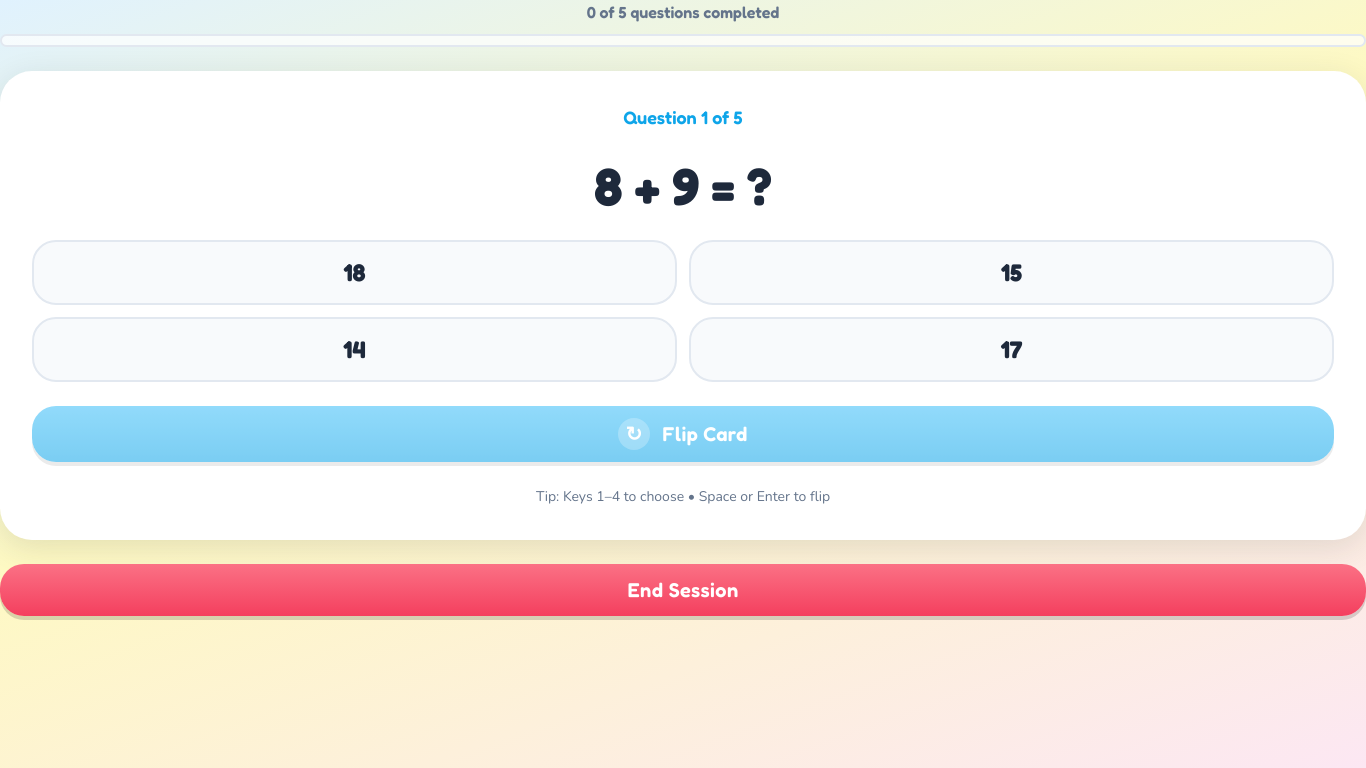
Test: PracticePage › shows end session confirmation dialog and allows canceling
This screenshot has width=1366, height=768.
Click the button "End Session" at [683, 590], box [0,564,1365,616]
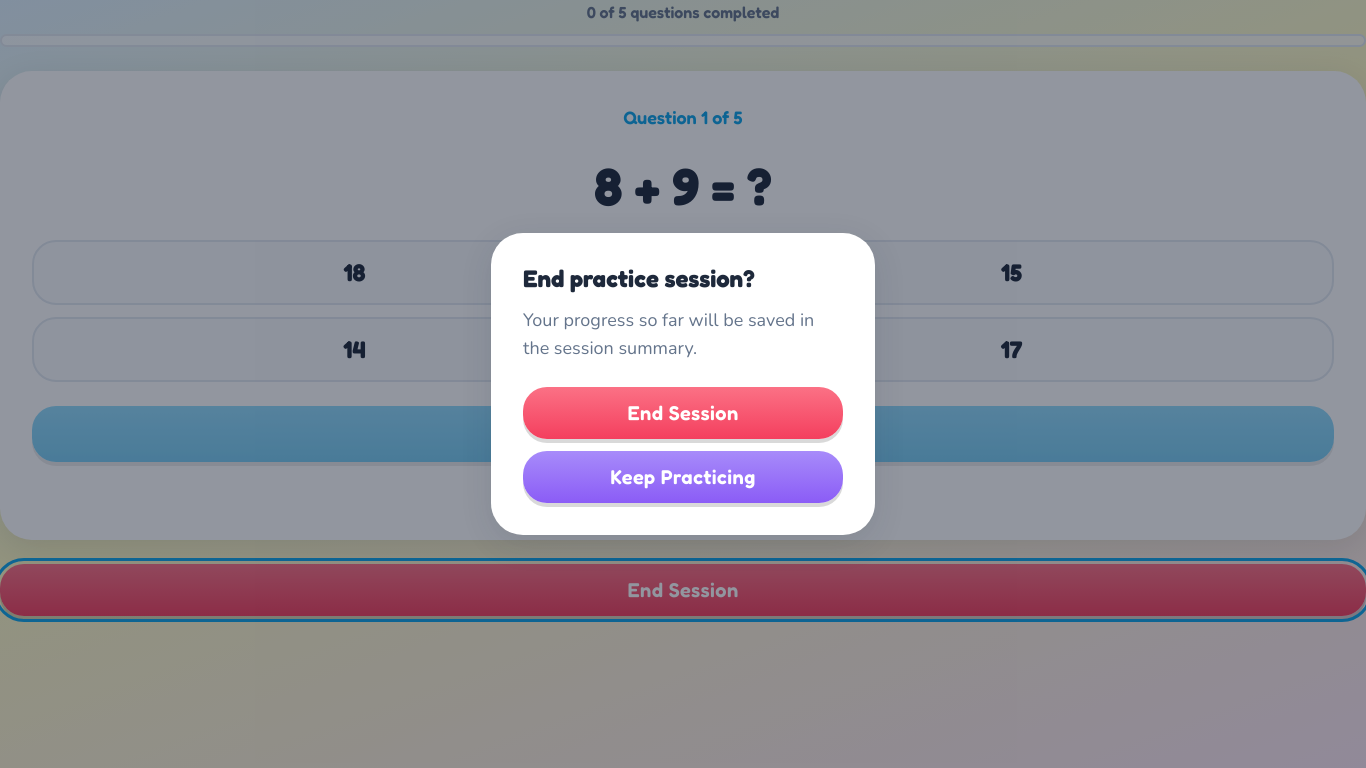
Now the heading "End practice session?" is shown, box [523,264,755,293]
Click the button "Keep Practicing" at [683, 477], box [523,451,843,503]
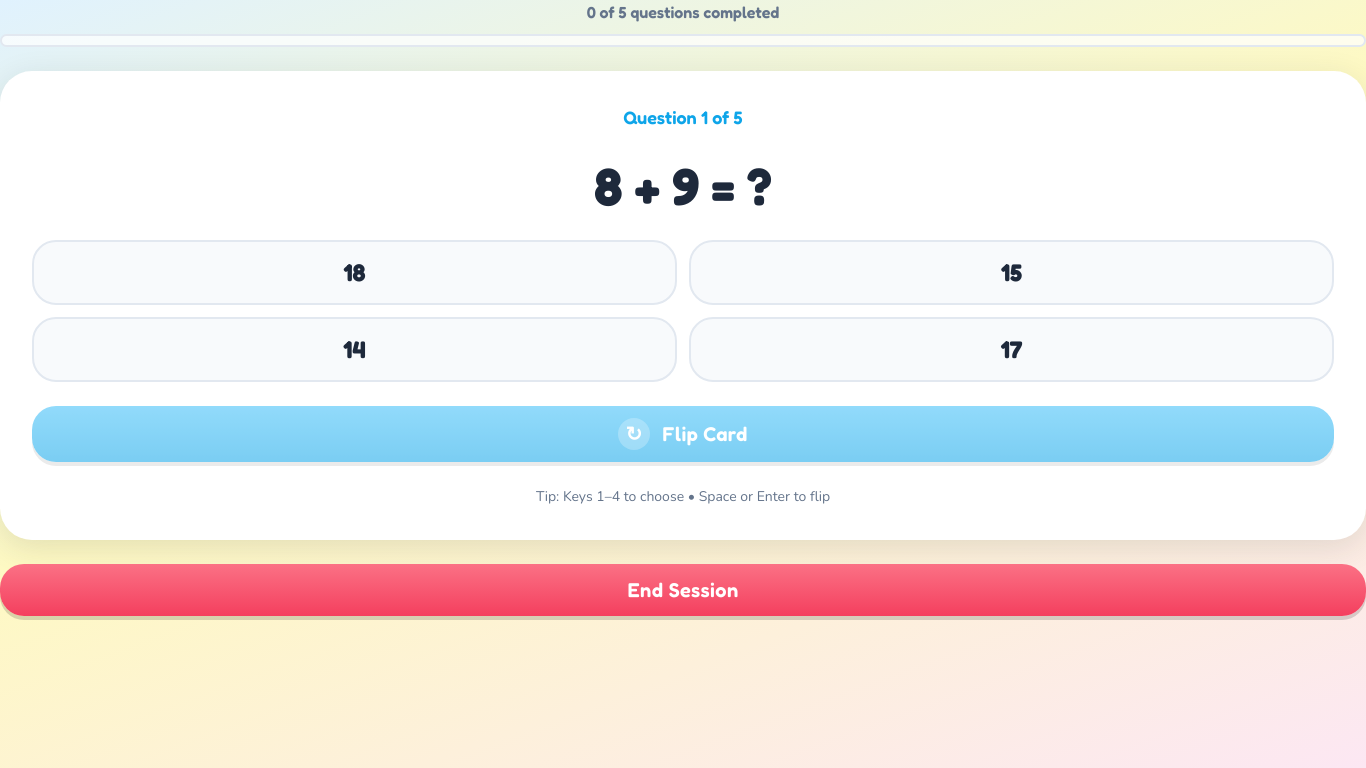
Now the heading "End practice session?" is gone
